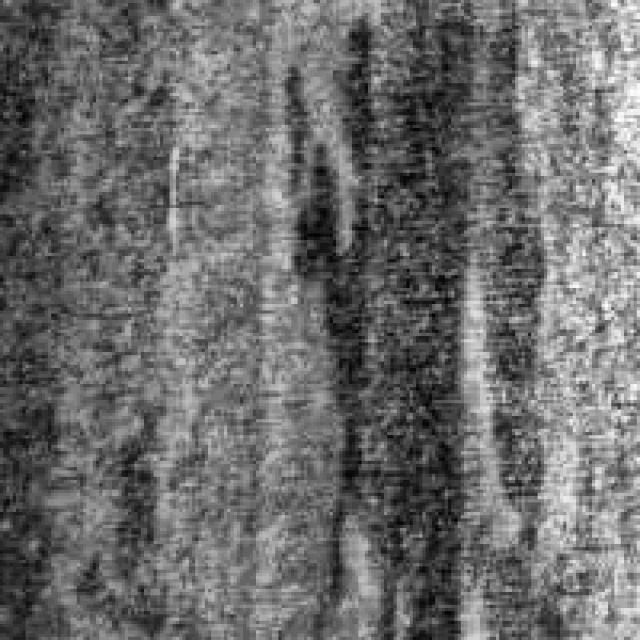Patches: (275, 3, 394, 595)
